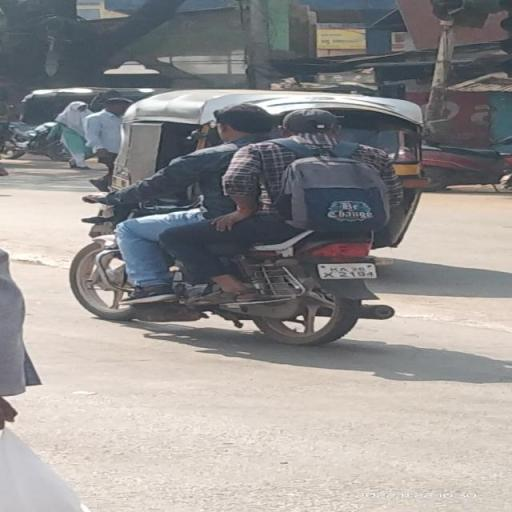bike: (62, 103, 426, 345)
numberplate: (317, 263, 378, 279)
withouthelmet: (214, 106, 266, 141), (284, 110, 337, 135)
